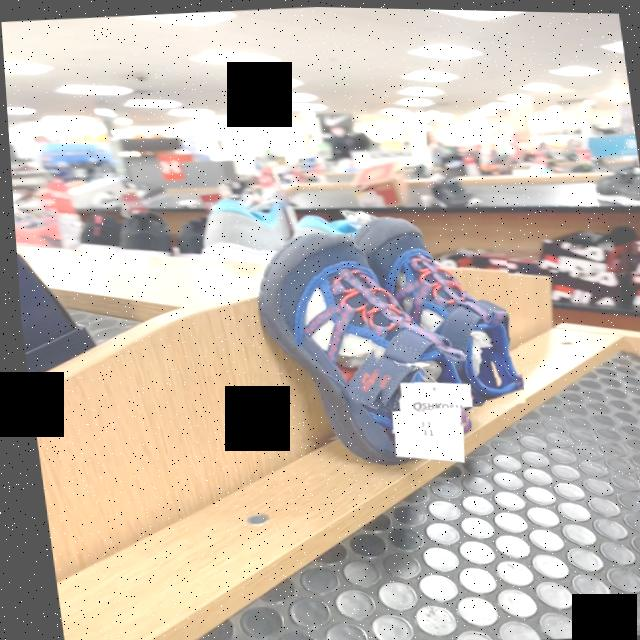shoe: (254, 232, 454, 436), (349, 217, 518, 404)
